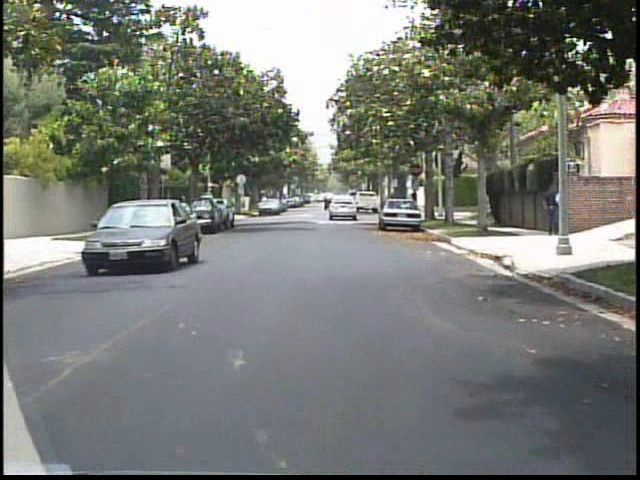person: (541, 179, 558, 238), (164, 192, 180, 232)
